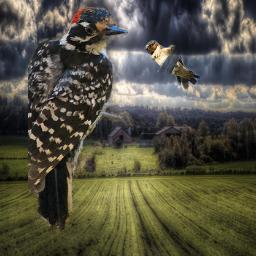Swallow: (144, 40, 201, 90)
Woodpecker: (28, 4, 128, 236)
